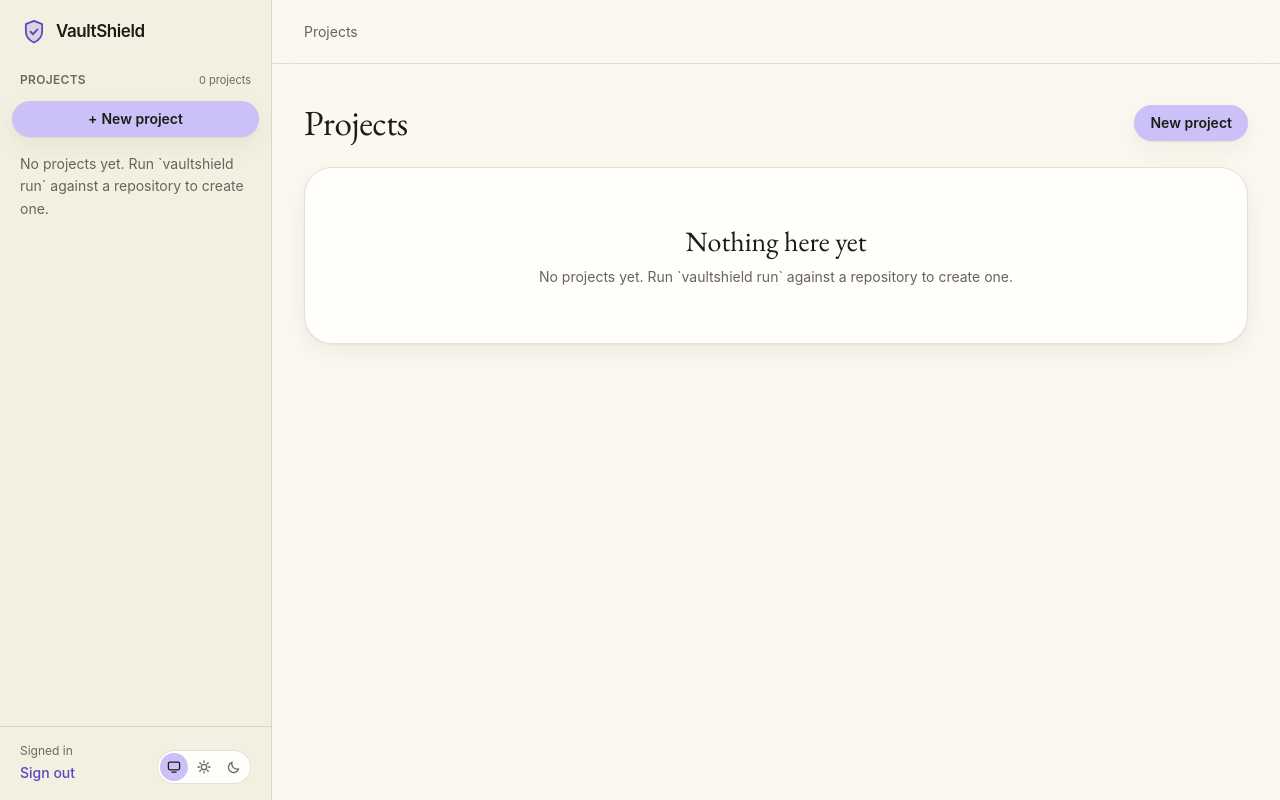
Test: closes the modal on Escape and returns focus to the opener, without creating
Expected: the button "Sign out" is shown, [20,763,75,783]
Step 1. Click the button "+ New project" → (136,118), box [12,100,259,136]
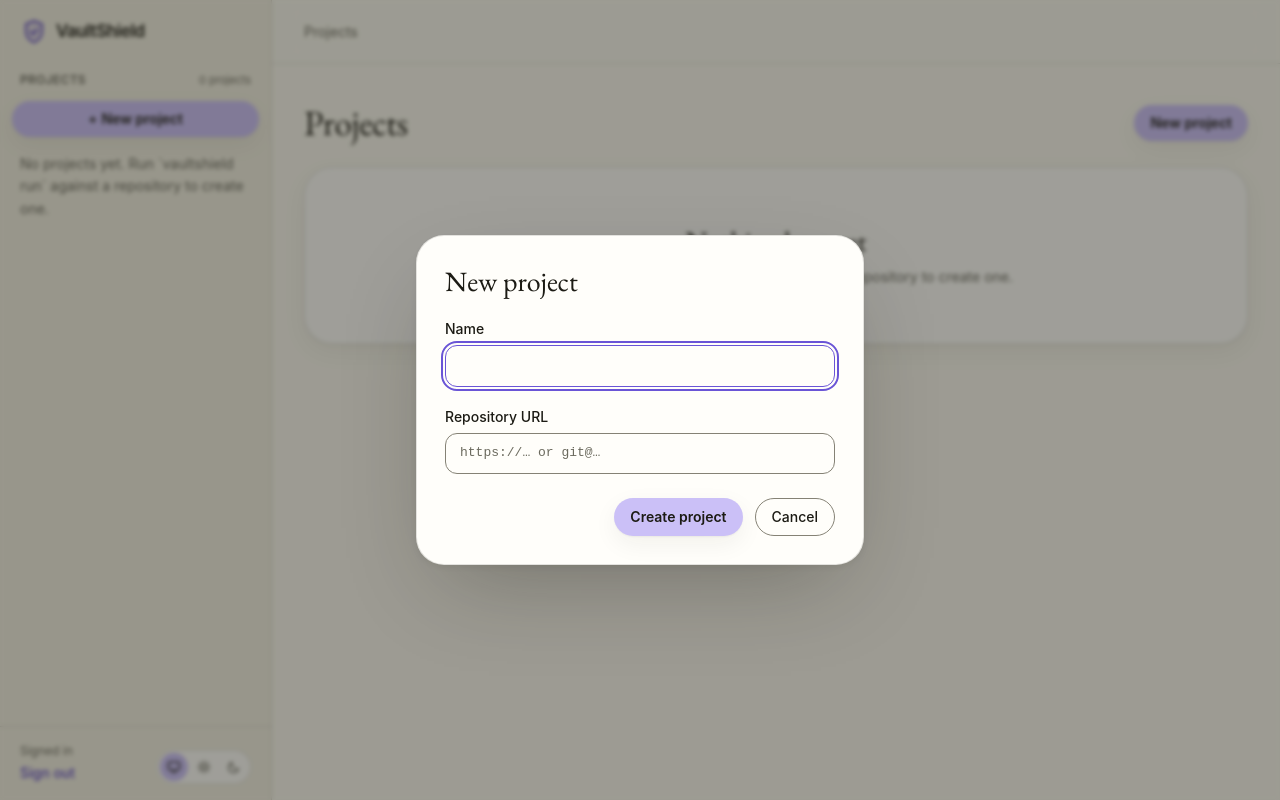
Step 2. Press Escape
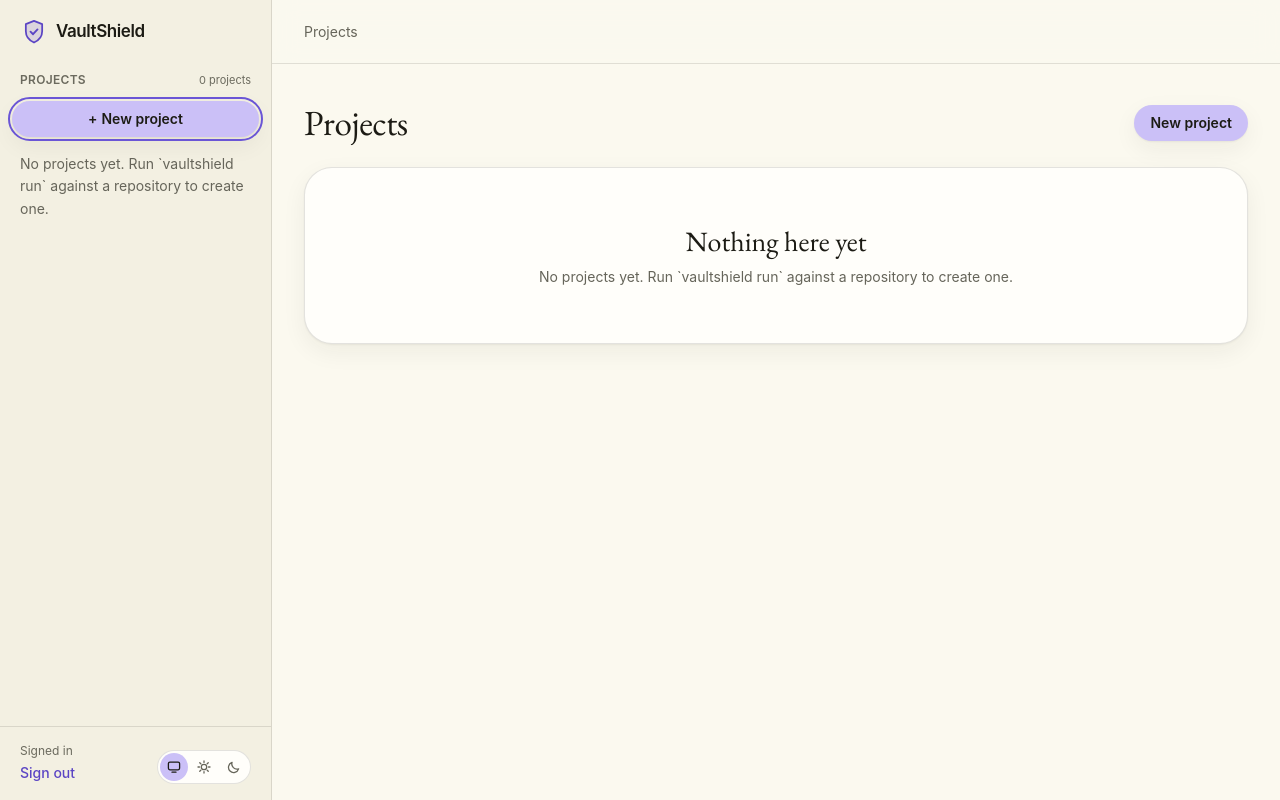
Now the dialog is gone
